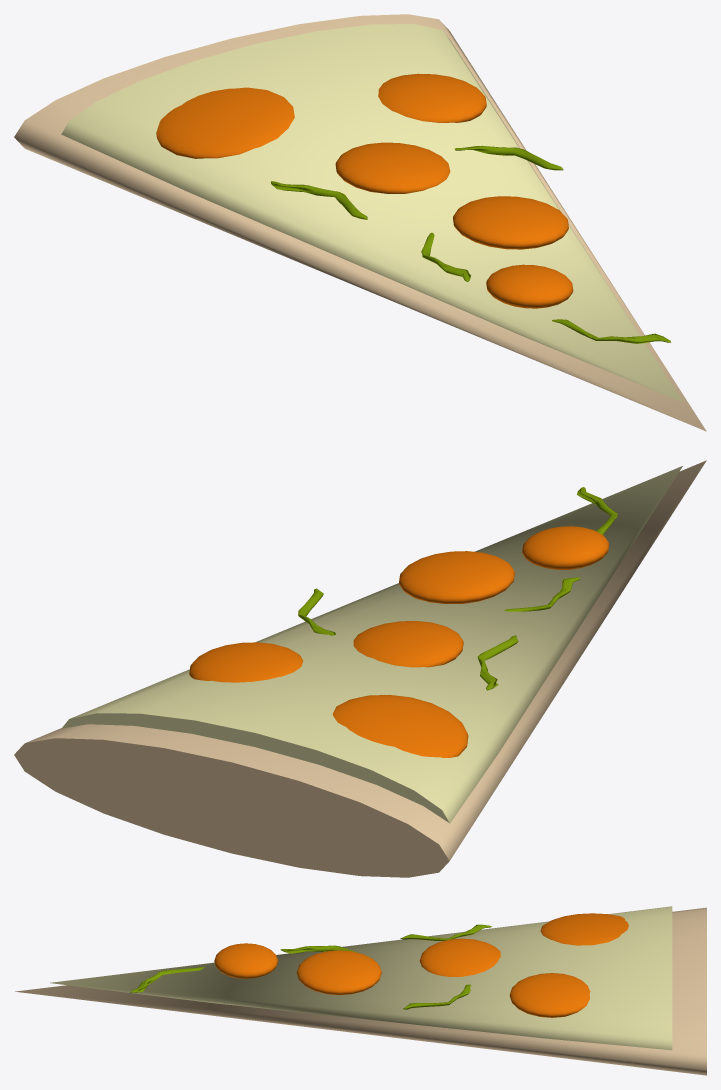
File: pizza.fbx
3 renders of one model, top to bottom at view 1: azimuth 30°, elevation 25°; view 2: azimuth 150°, elevation 25°; view 3: azimuth 270°, elevation 25°, orthographic. The views are drawn at different scales.
Visible parts, largest first — view 1: pCone2, pCone1, pSphere1, pSphere4, pSphere3, pSphere2, pSphere5, pSphere6, pSphere7, pSphere9; view 2: pCone2, pCone1, pSphere1, pSphere4, pSphere3, pSphere2, pSphere5, pSphere6; view 3: pCone2, pCone1, pSphere4, pSphere2, pSphere3, pSphere1, pSphere5, pSphere6, pSphere9, pSphere8, pSphere7.
Part boxes in pixels (left/top/right/bottom): pCone2: left=61, top=24, right=682, bottom=402; pCone1: left=14, top=14, right=706, bottom=431; pSphere1: left=156, top=87, right=294, bottom=158; pSphere4: left=453, top=196, right=568, bottom=249; pSphere3: left=335, top=142, right=450, bottom=193; pSphere2: left=378, top=73, right=486, bottom=122; pSphere5: left=486, top=264, right=573, bottom=308; pSphere6: left=271, top=181, right=367, bottom=219; pSphere7: left=455, top=145, right=563, bottom=170; pSphere9: left=552, top=319, right=671, bottom=343; pCone2: left=61, top=466, right=682, bottom=823; pCone1: left=14, top=460, right=706, bottom=877; pSphere1: left=332, top=694, right=468, bottom=757; pSphere4: left=399, top=551, right=514, bottom=603; pSphere3: left=353, top=621, right=463, bottom=667; pSphere2: left=189, top=642, right=303, bottom=682; pSphere5: left=522, top=526, right=609, bottom=569; pSphere6: left=477, top=635, right=518, bottom=690; pCone2: left=50, top=906, right=672, bottom=1050; pCone1: left=15, top=907, right=706, bottom=1075; pSphere4: left=296, top=950, right=381, bottom=995; pSphere2: left=509, top=973, right=590, bottom=1017; pSphere3: left=419, top=938, right=500, bottom=976; pSphere1: left=540, top=913, right=628, bottom=945; pSphere5: left=214, top=943, right=278, bottom=978; pSphere6: left=400, top=924, right=491, bottom=940; pSphere9: left=130, top=967, right=204, bottom=992; pSphere8: left=280, top=945, right=359, bottom=953; pSphere7: left=403, top=984, right=471, bottom=1009.
Size of the model in its own units: 4.51 by 1.02 by 8.51.
